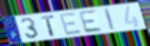3: (20, 17, 40, 40)
4: (124, 5, 141, 28)
E: (78, 9, 104, 34), (58, 11, 83, 36)
I: (103, 7, 116, 31)
T: (40, 14, 56, 37)
